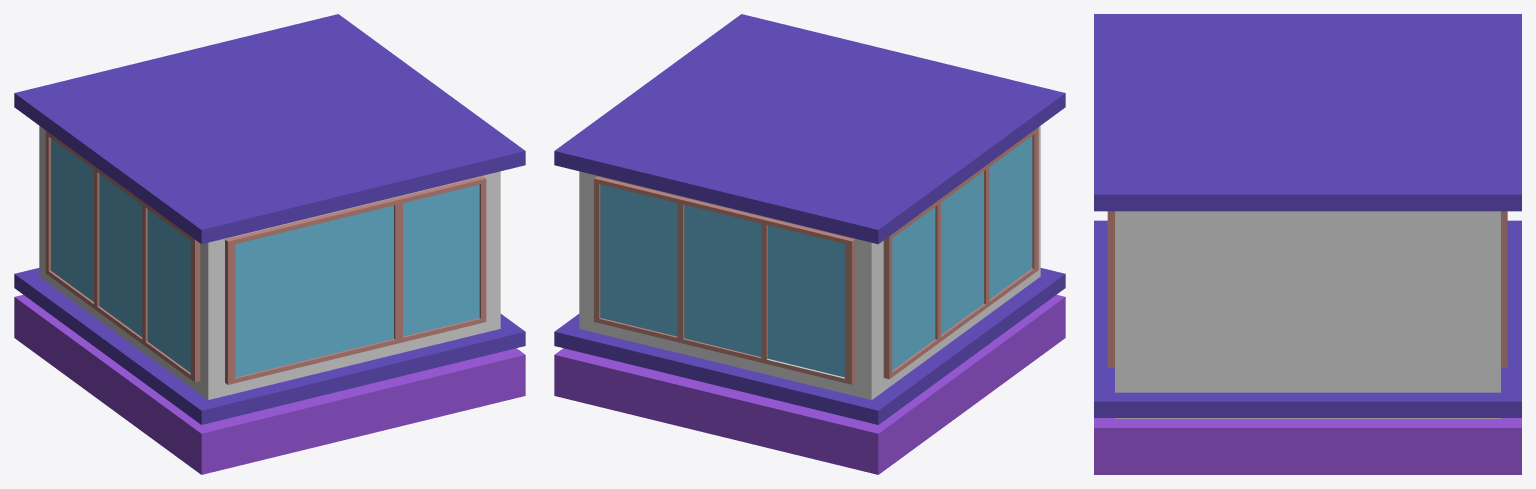
The model's file is House1Part3.fbx.
3 views of the same model, side by side, from view 1: azimuth 30°, elevation 25°; view 2: azimuth 150°, elevation 25°; view 3: azimuth 270°, elevation 25° (orthographic). The views are drawn at different scales.
Parts seen in each view (by area): view 1: Cube.026; view 2: Cube.026; view 3: Cube.026.
Boxes of the visible parts, <box> form: Cube.026: <box>14,14,525,474</box>; Cube.026: <box>554,14,1065,474</box>; Cube.026: <box>1094,14,1521,474</box>.
Bounding box in the file's own units: 222 × 160 × 222.
